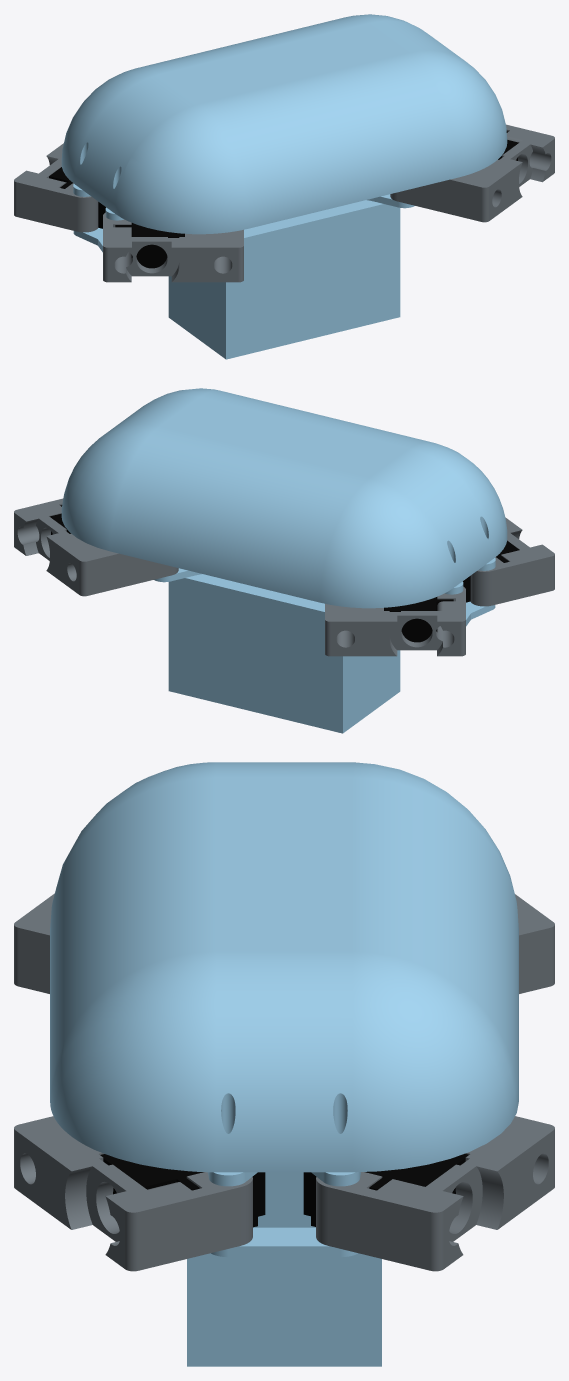
Rendered from I_drone.dae.
3 renders of one model, top to bottom at view 1: azimuth 30°, elevation 25°; view 2: azimuth 150°, elevation 25°; view 3: azimuth 270°, elevation 25°, orthographic. The views are drawn at different scales.
Parts seen in each view (by area): view 1: Part 1 (×2), Porte_servo1, Porte_servo3, Porte_servo2, servomoteur3, bottom_plate; view 2: Part 1 (×2), Porte_servo4, Porte_servo2, Porte_servo3, servomoteur2, bottom_plate; view 3: Part 1 (×3), Porte_servo4, Porte_servo1, Porte_servo3, Porte_servo2, servomoteur1, servomoteur4, Top_plate.
Boxes of the visible parts, bbox=[...] form: Part 1 (×2): bbox=[61, 14, 507, 359]; Porte_servo1: bbox=[390, 124, 554, 222]; Porte_servo3: bbox=[103, 212, 243, 282]; Porte_servo2: bbox=[14, 143, 98, 232]; servomoteur3: bbox=[115, 223, 184, 268]; bottom_plate: bbox=[73, 194, 414, 252]; Part 1 (×2): bbox=[61, 388, 507, 733]; Porte_servo4: bbox=[14, 498, 178, 596]; Porte_servo2: bbox=[325, 586, 465, 656]; Porte_servo3: bbox=[470, 517, 554, 606]; servomoteur2: bbox=[384, 597, 453, 642]; bottom_plate: bbox=[154, 568, 495, 626]; Part 1 (×3): bbox=[50, 762, 518, 1366]; Porte_servo4: bbox=[316, 1116, 554, 1271]; Porte_servo1: bbox=[14, 1116, 252, 1271]; Porte_servo3: bbox=[14, 893, 54, 993]; Porte_servo2: bbox=[515, 894, 554, 993]; servomoteur1: bbox=[100, 1154, 265, 1227]; servomoteur4: bbox=[303, 1153, 468, 1226]; Top_plate: bbox=[208, 1172, 360, 1186].
Size of the model in its own units: 0.1811 by 0.111 by 0.0974.
